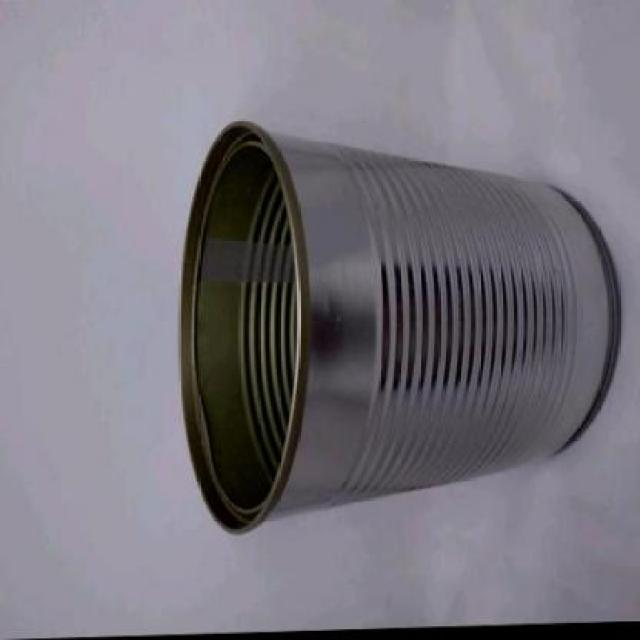Metal: (170, 114, 624, 542)
